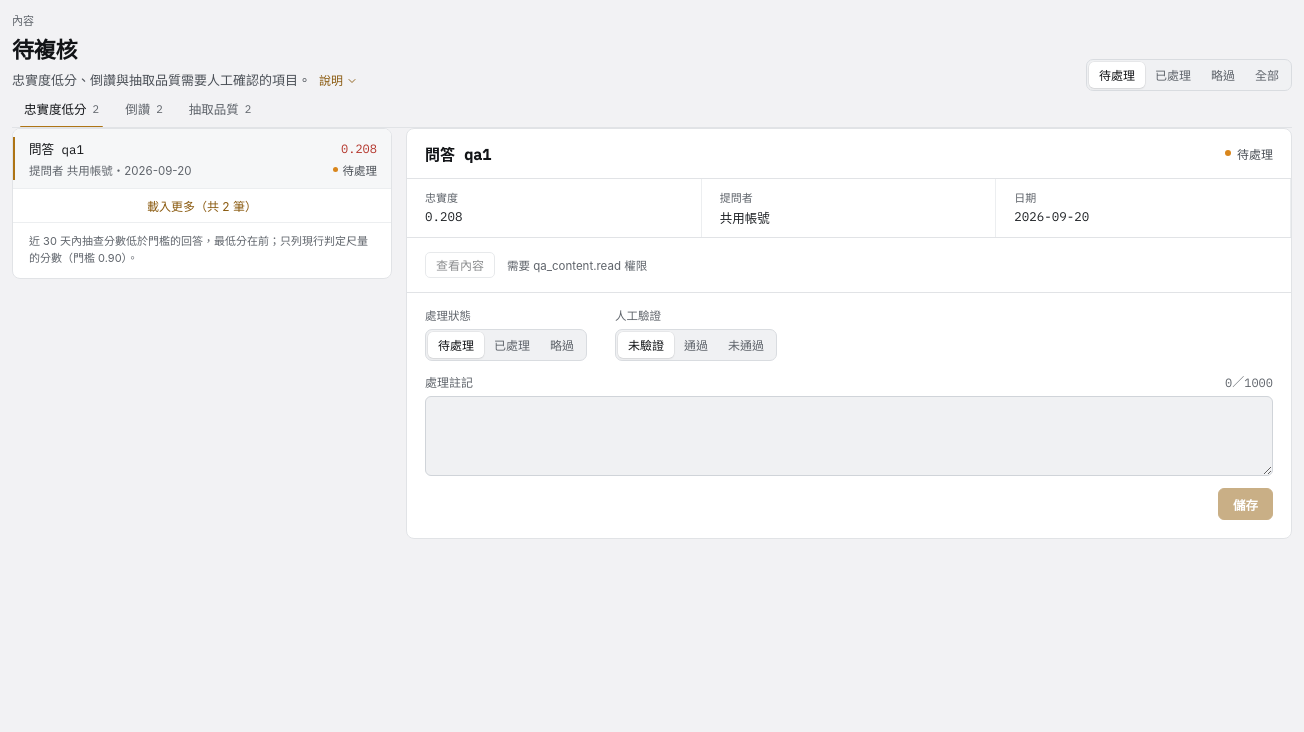
Test: 還有下一頁時「載入更多」以 next_offset 接續並累加
Click the button "載入更多（共 2 筆）" at (202, 206), box 13,189 -> 391,223
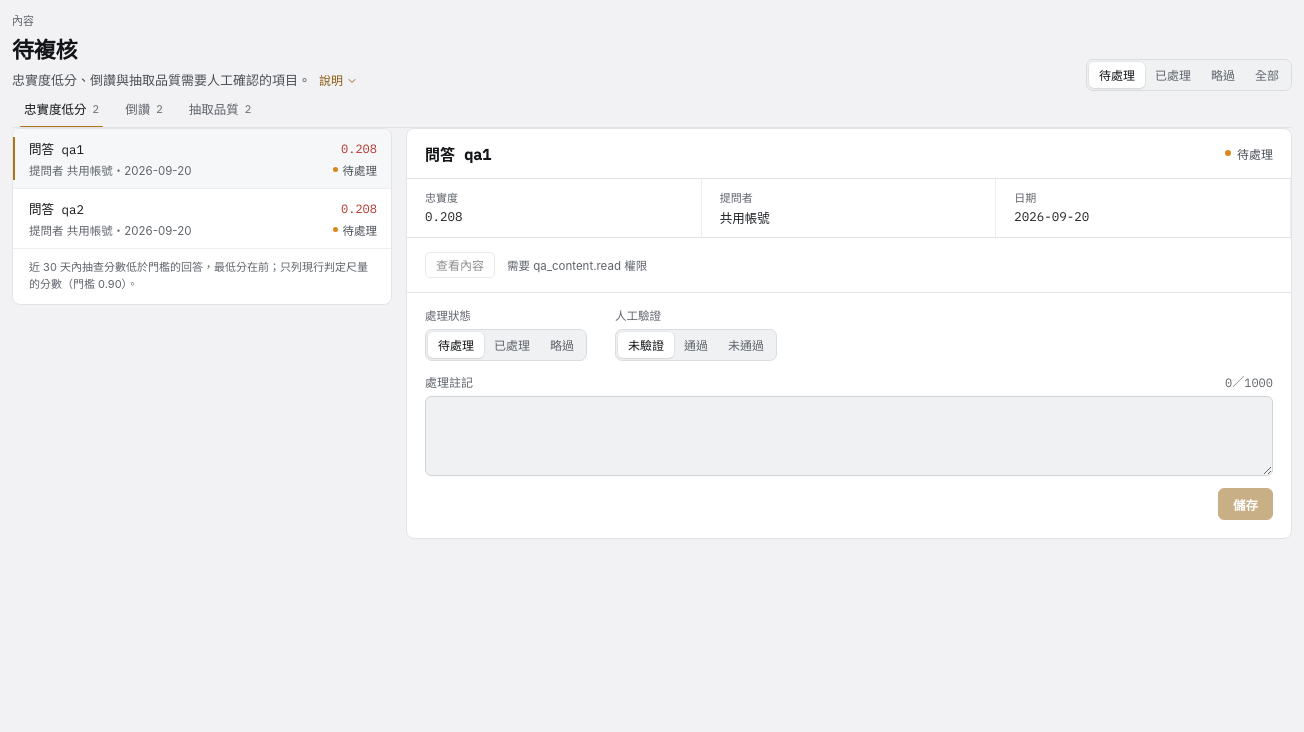
Expected: the text "問答 qa1" is shown, 29,141 -> 84,157
Now the button "載入更多" is gone
